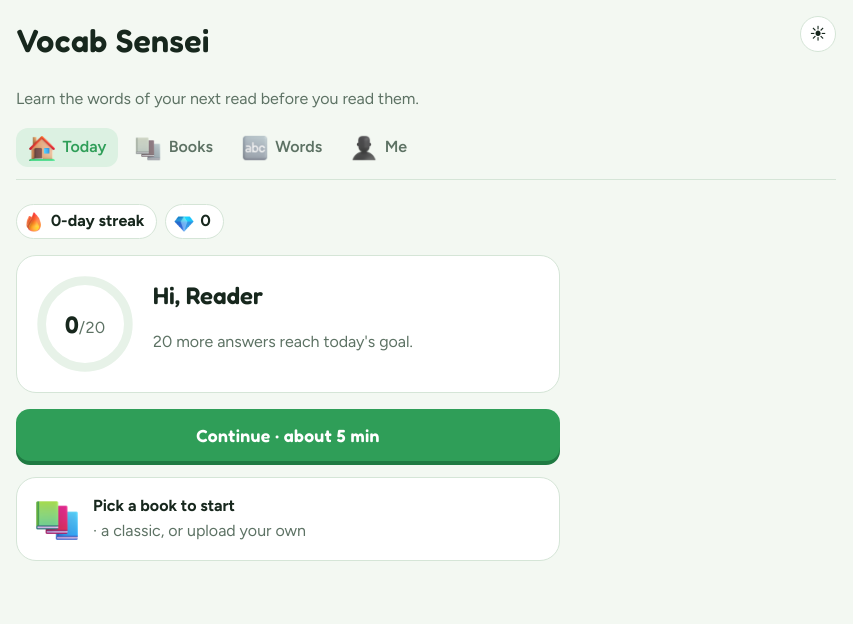
Test: logout › returns to the login page
This screenshot has width=853, height=624.
Expected: the heading "Hi, Reader" is shown, [153,281,263,310]
Click the link "Me".
click(379, 148)  # box [350,134,407,162]
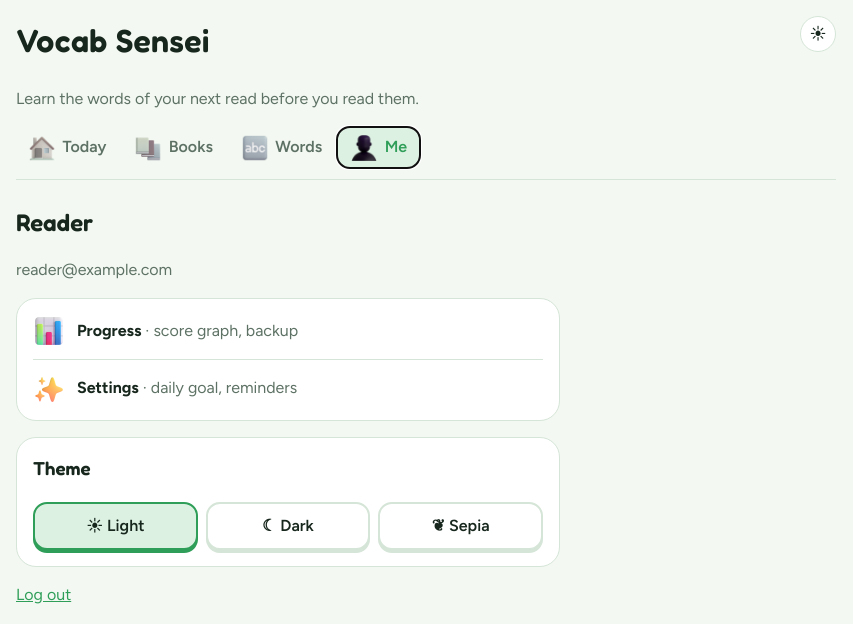
Click the button "Log out".
click(44, 596)  # box [16,583,71,608]
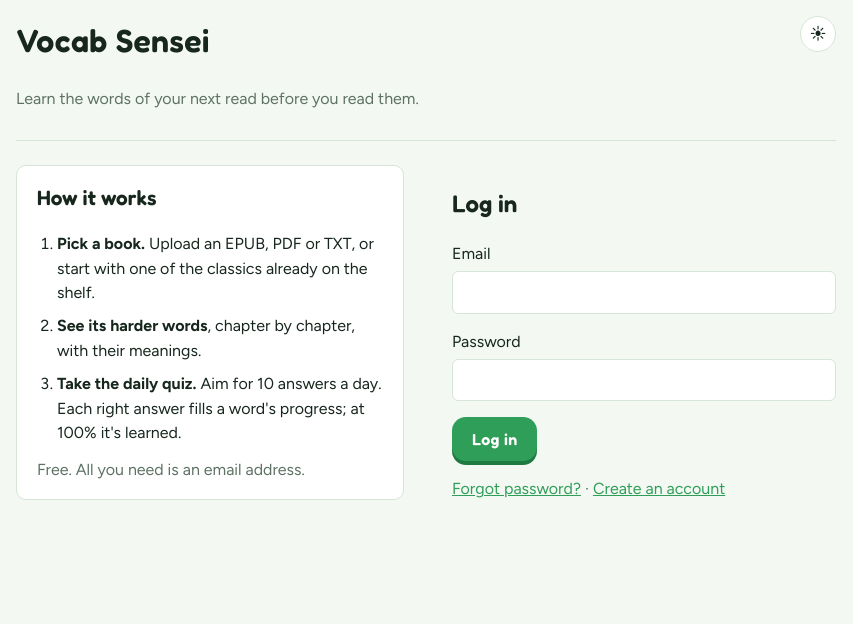
Now the heading "Log in" is shown, box [452,189,517,218]
